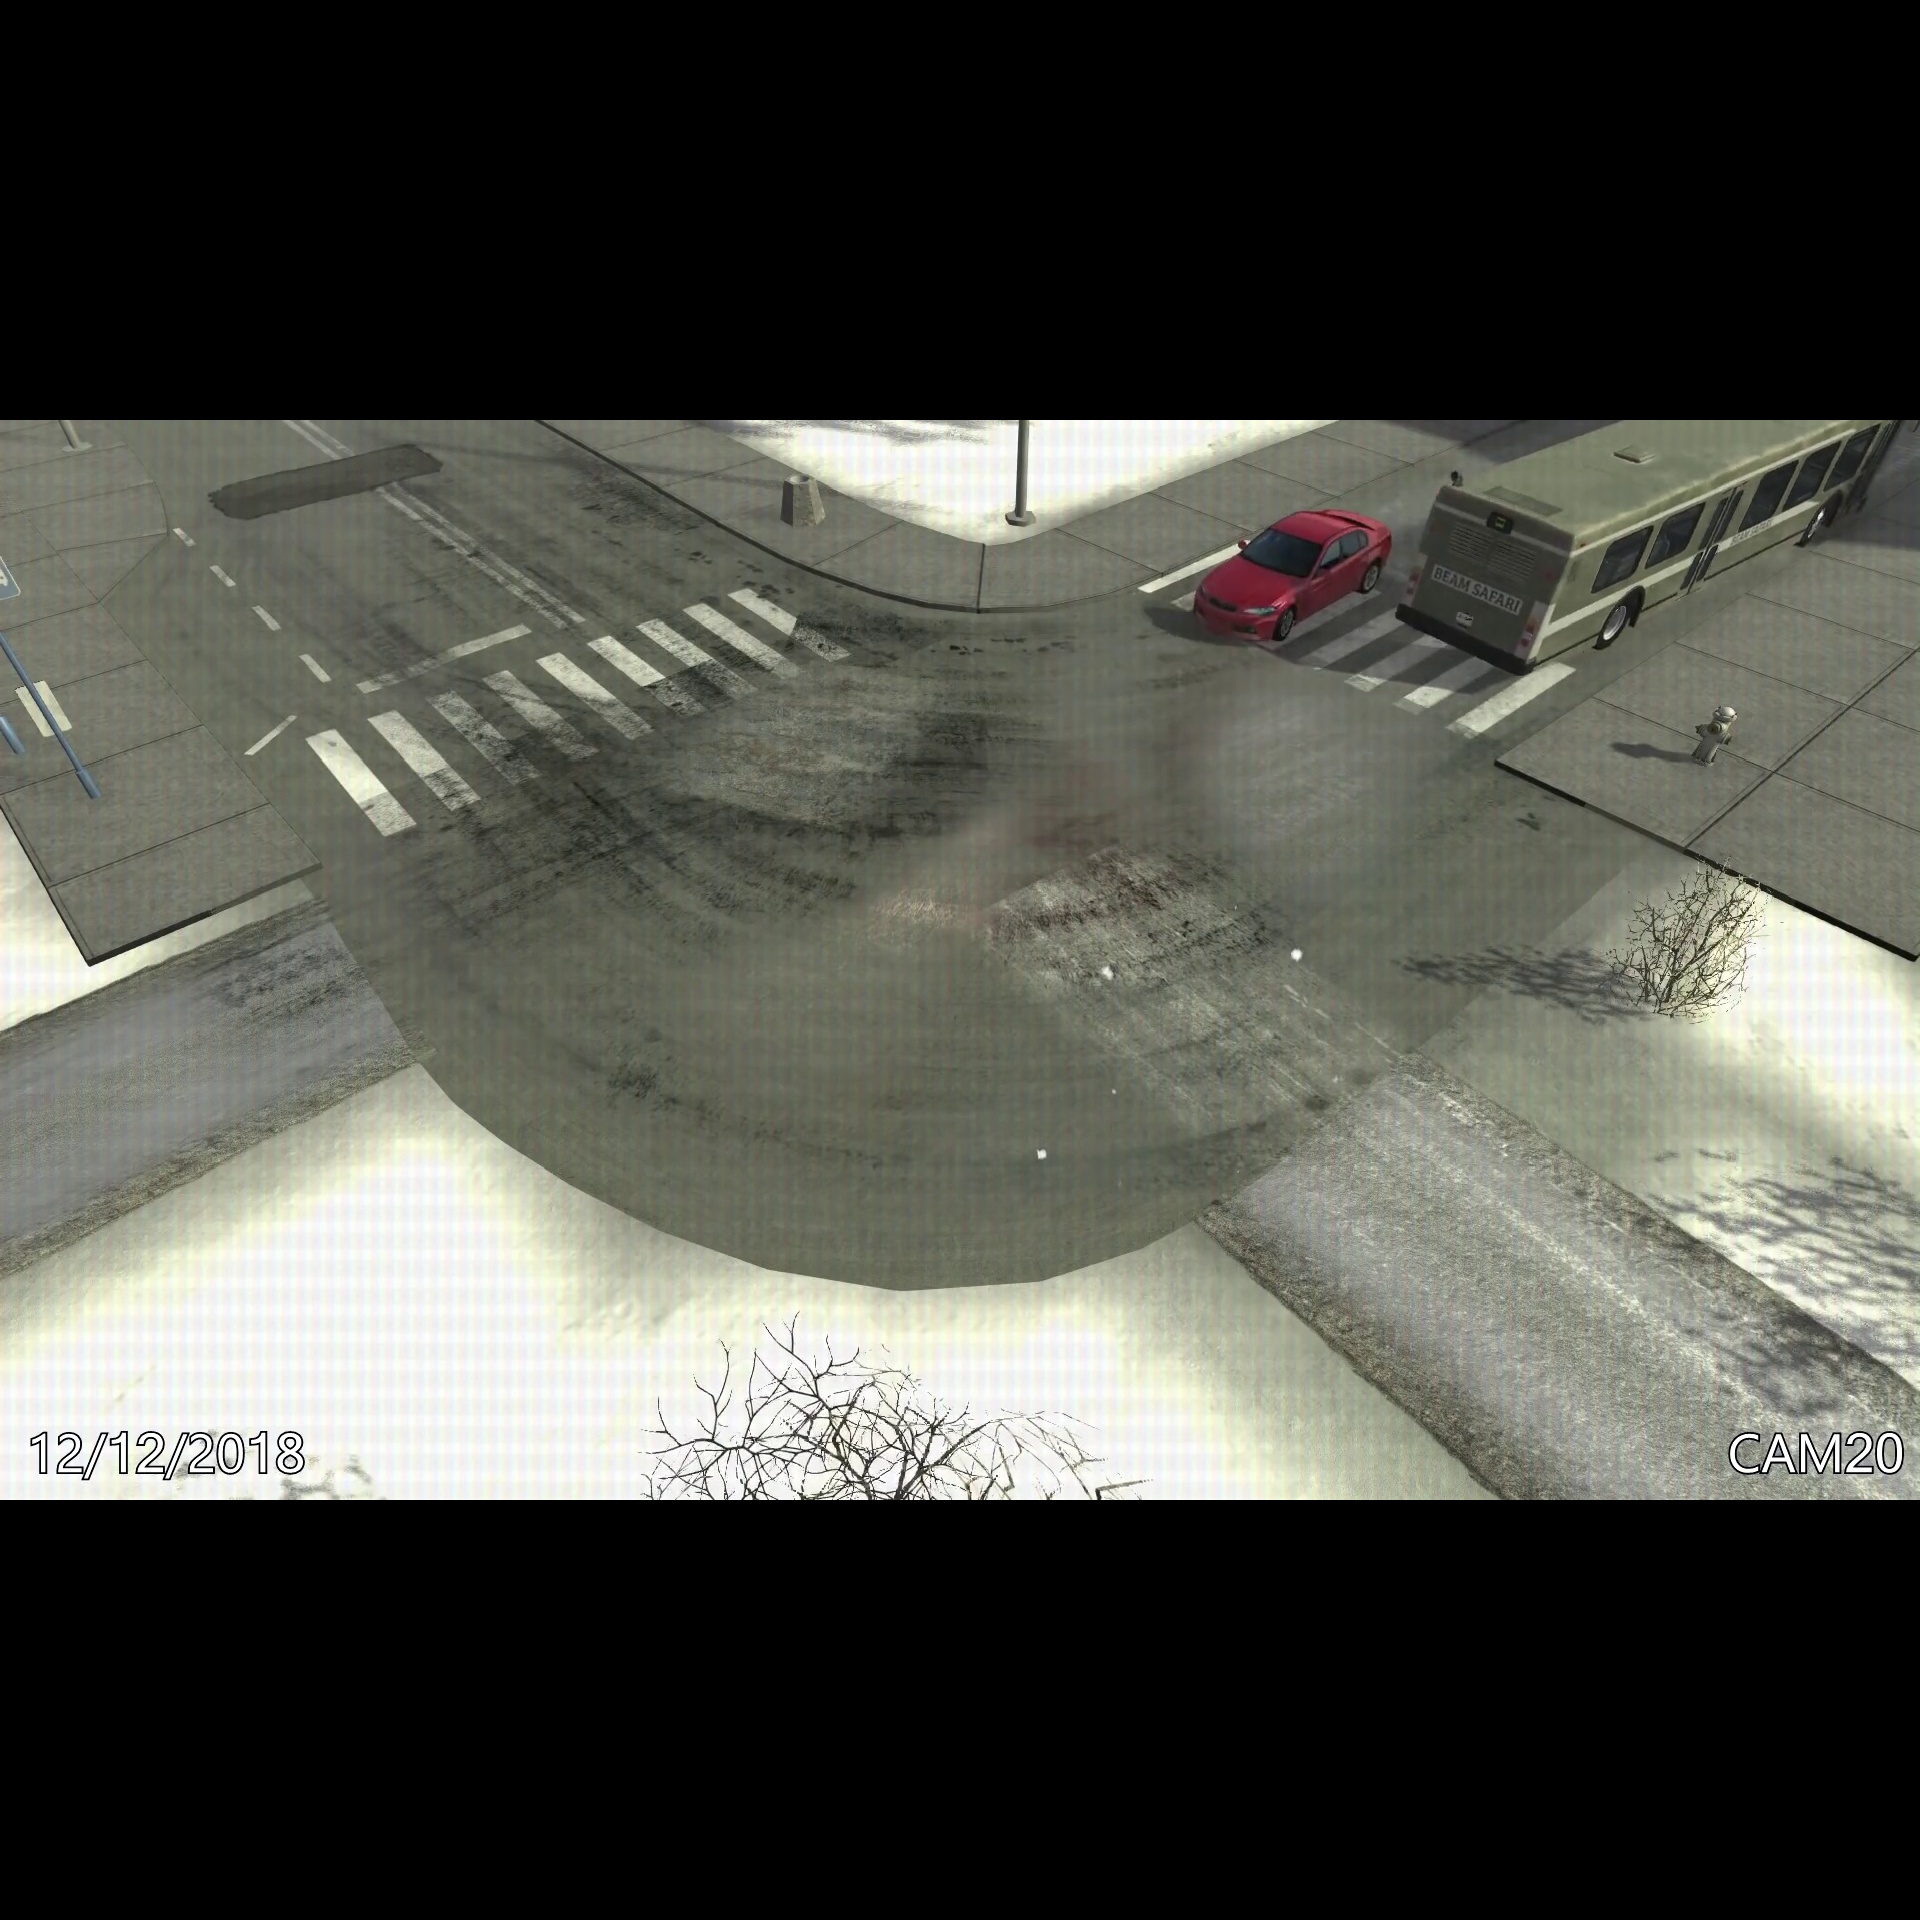vehicle: (1394, 420, 1911, 679), (1187, 499, 1394, 651)
